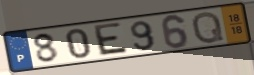0: (64, 27, 94, 60)
6: (161, 13, 189, 51)
8: (32, 32, 61, 64)
9: (129, 19, 158, 52)
E: (93, 21, 131, 57)
Q: (191, 10, 226, 46)
